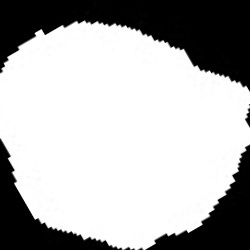spot: (2, 21, 249, 249)
